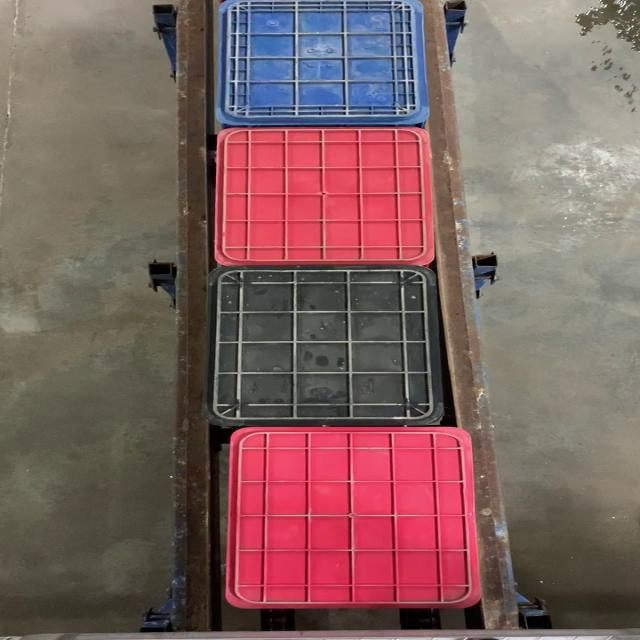Box: (224, 426, 481, 606), (201, 266, 448, 424), (211, 126, 434, 264)
